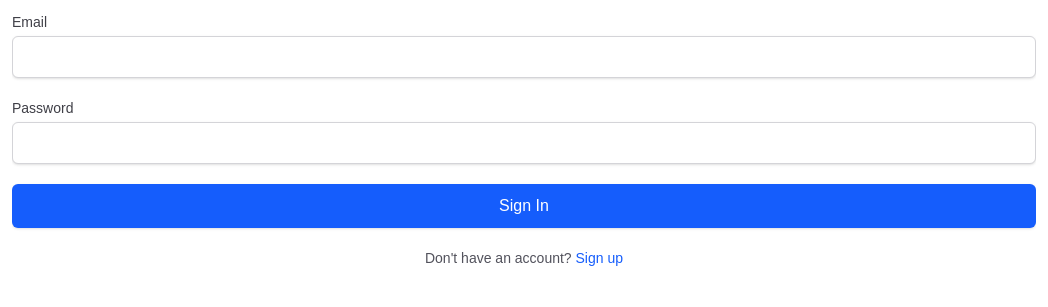
SigninForm › shows validation error for empty password on submit
Step 1. Type "test@example.com" into the field labelled "Email" → (524, 57), box top-left (12, 36), bottom-right (1036, 78)
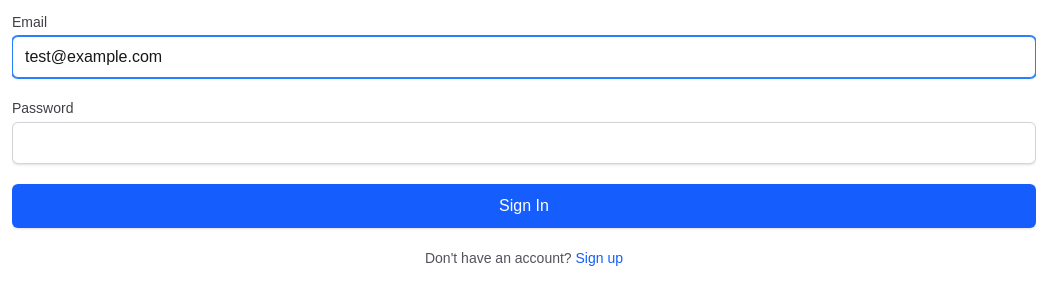
Step 2. Click the button "Sign In" → (524, 206), box top-left (12, 184), bottom-right (1036, 228)
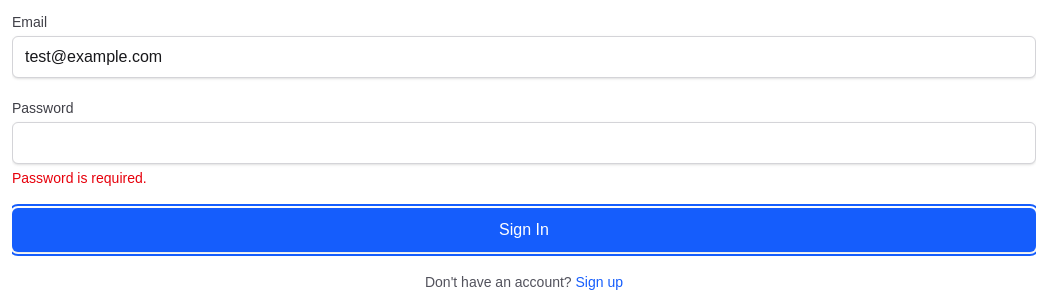
Expected: the text "Password is required." is shown, top-left (12, 170), bottom-right (147, 186)
